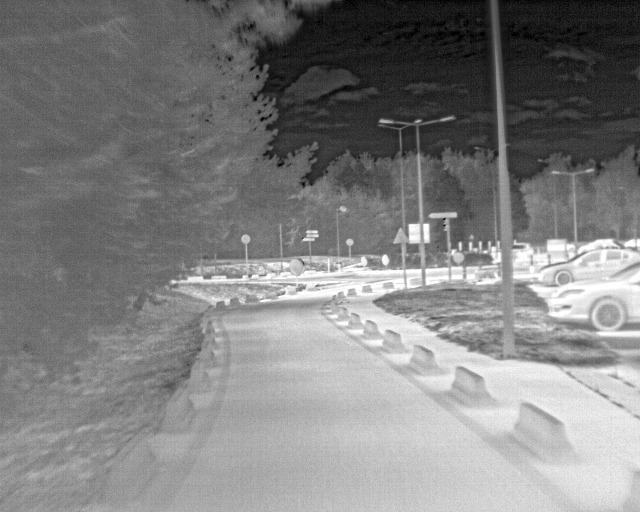car: (547, 261, 639, 331), (538, 248, 639, 286), (577, 238, 624, 257), (511, 243, 534, 261), (624, 238, 639, 249)
light: (443, 217, 449, 231)
sign: (289, 258, 306, 276), (393, 228, 410, 244), (408, 224, 421, 243), (428, 212, 457, 219), (423, 223, 430, 244), (453, 252, 465, 263), (241, 234, 251, 244), (382, 254, 390, 266), (360, 256, 368, 267), (346, 239, 354, 246), (306, 234, 319, 238), (302, 237, 315, 241), (306, 229, 318, 233), (469, 234, 475, 239)
